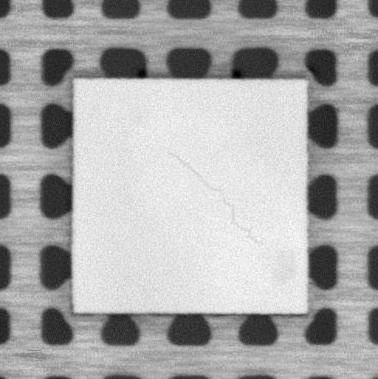DIE_CRACK: (166, 150, 257, 246)
